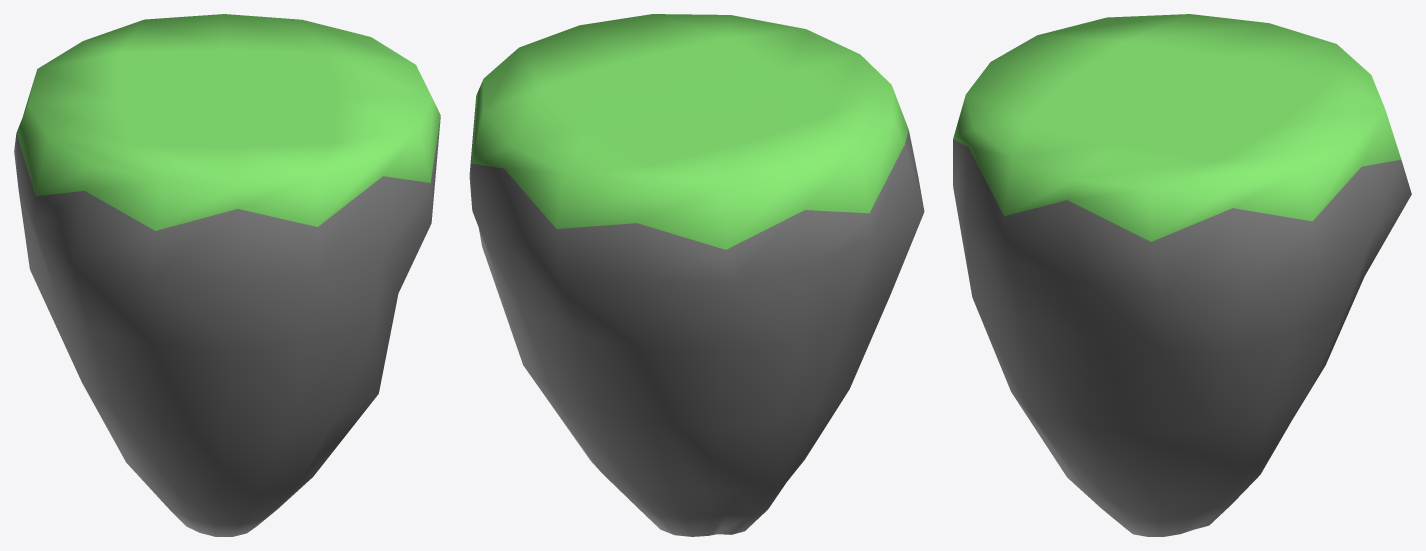
File: LargeChunk.fbx
The picture shows the model from 3 angles, left to right: view 1: azimuth 30°, elevation 25°; view 2: azimuth 150°, elevation 25°; view 3: azimuth 270°, elevation 25°; orthographic projection. The views are drawn at different scales.
Visible parts, largest first — view 1: RetopoFlow; view 2: RetopoFlow; view 3: RetopoFlow.
Boxes of the visible parts, x1,y1,x2,y2 form: RetopoFlow: (14,14,440,536); RetopoFlow: (469,14,924,536); RetopoFlow: (953,14,1411,536).
Size of the model in its own units: 676 by 693 by 669.
